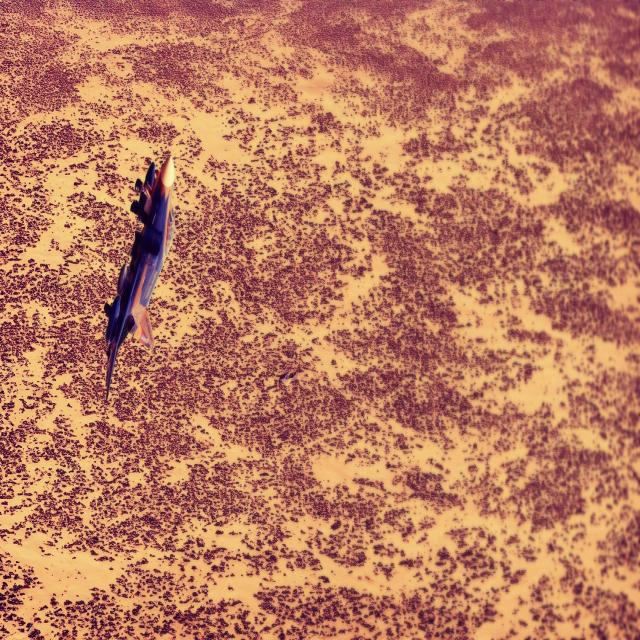airplane: (102, 153, 176, 403)
